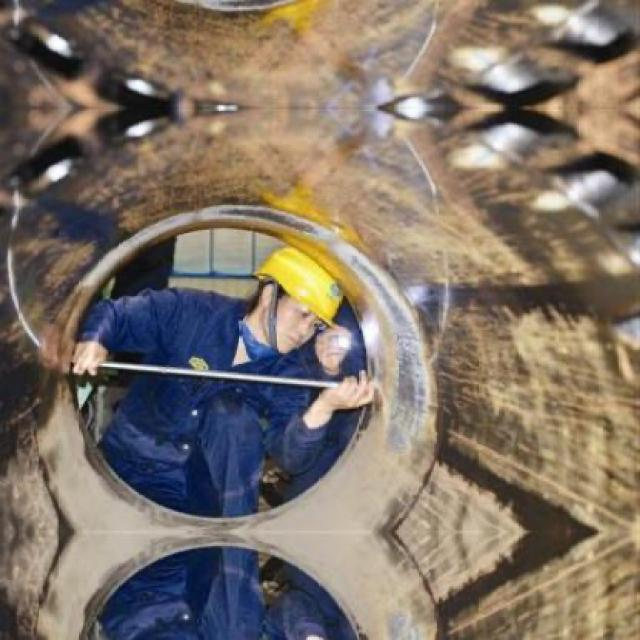helmet: (246, 230, 366, 356)
